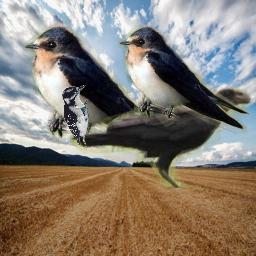Crow: (70, 87, 253, 189)
Swallow: (23, 23, 185, 159), (118, 24, 249, 134)
Woodpecker: (62, 85, 90, 150)
